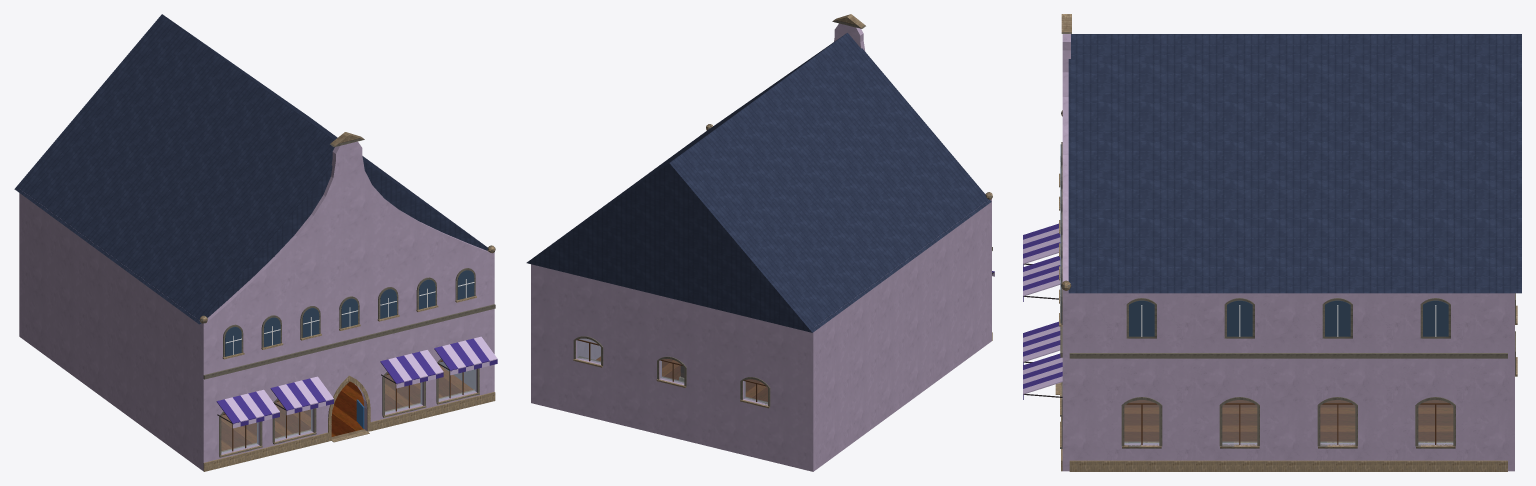
The model's file is shop_magic.gltf.
3 views of the same model, side by side, from view 1: azimuth 30°, elevation 25°; view 2: azimuth 150°, elevation 25°; view 3: azimuth 270°, elevation 25° (orthographic). The views are drawn at different scales.
Visible parts, largest first — view 1: shop_magic; view 2: shop_magic; view 3: shop_magic.
Part boxes in pixels (bbox=[...]): shop_magic: bbox=[14, 14, 497, 471]; shop_magic: bbox=[526, 14, 994, 471]; shop_magic: bbox=[1023, 14, 1521, 471].
Size of what is drawn, in the model's own units: 17.96 by 17.52 by 21.4.
Materials: 9 (5 with a texture image).
